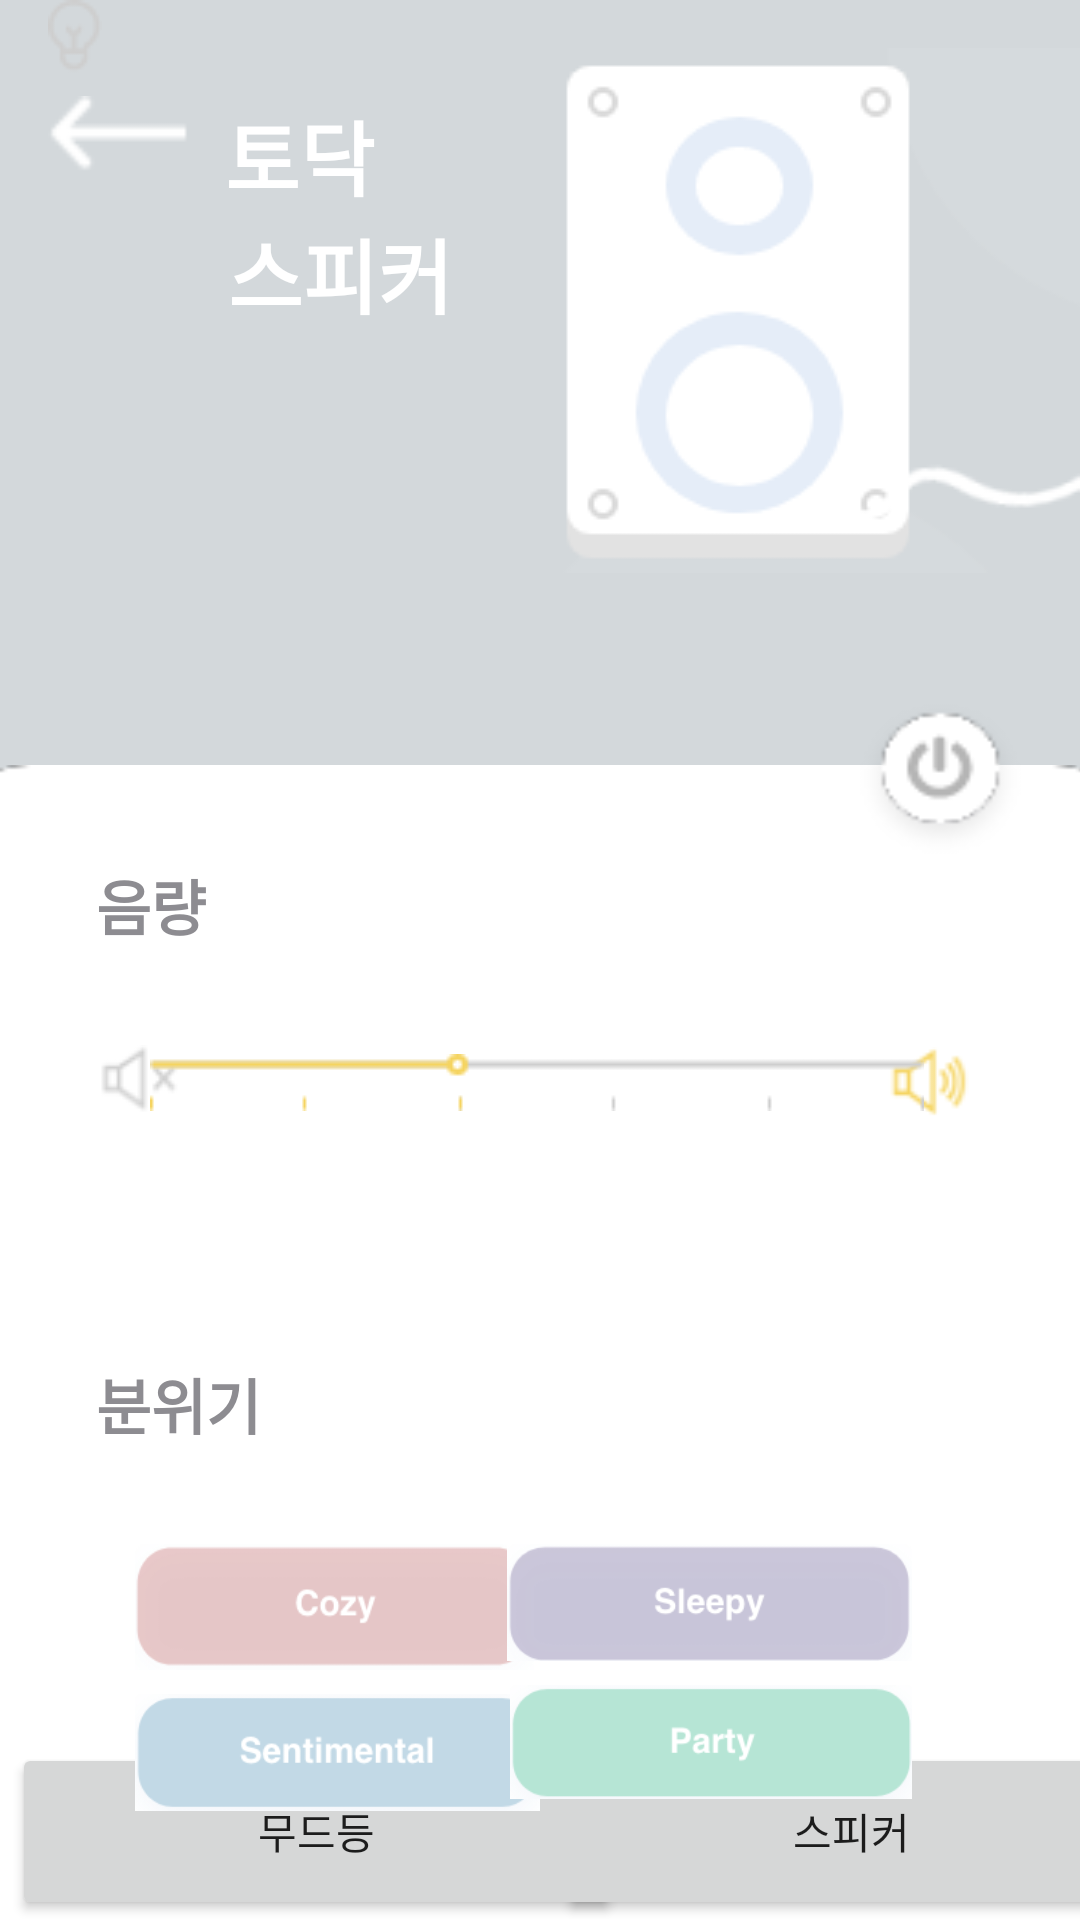

Where to tap for icons on this 1080 x 1920 app screen, as (x,y):
arrow: (118,132)
iot powerbtn off: (940,778)
speaker off: (129,1080)
speaker on: (927,1082)
